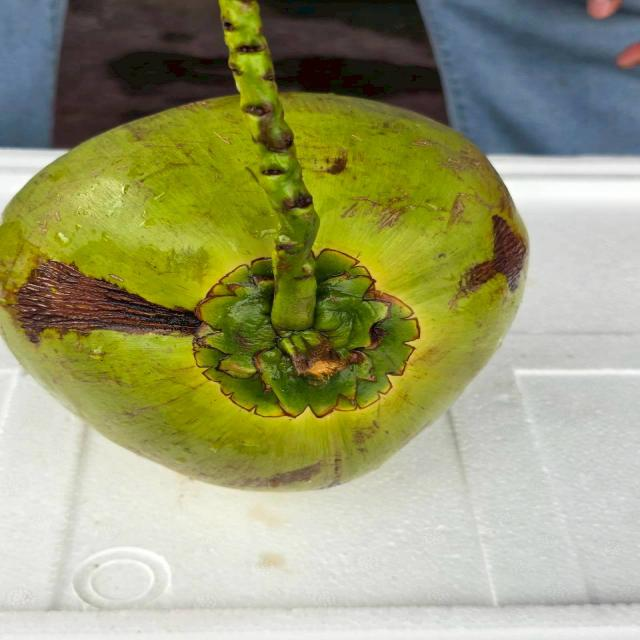coco_1.5: (146, 222, 464, 434)
